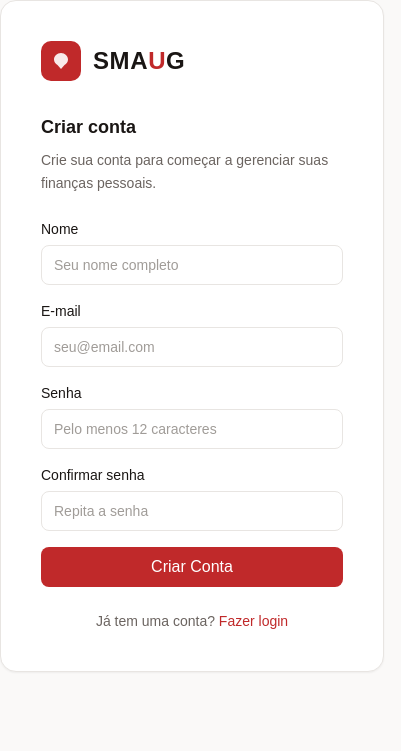
Test: página de cadastro › no 500 mostra a mensagem genérica e mantém o formulário
Type "Maria Souza" into the field labelled "Nome" at point(192, 264), box [41,244,343,284]
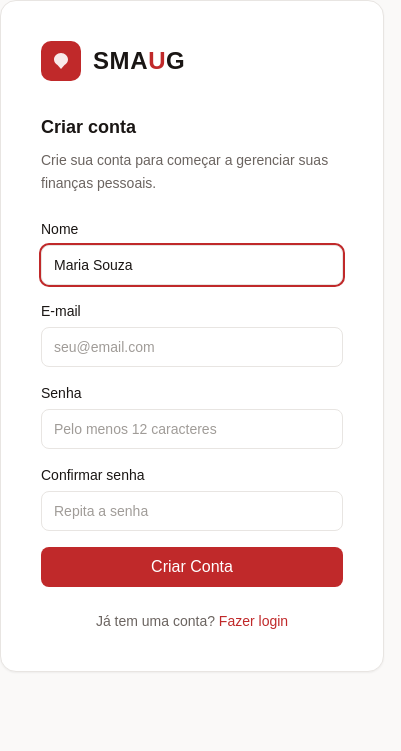
Type "maria@example.com" into the field labelled "E-mail" at point(192, 346), box [41,326,343,366]
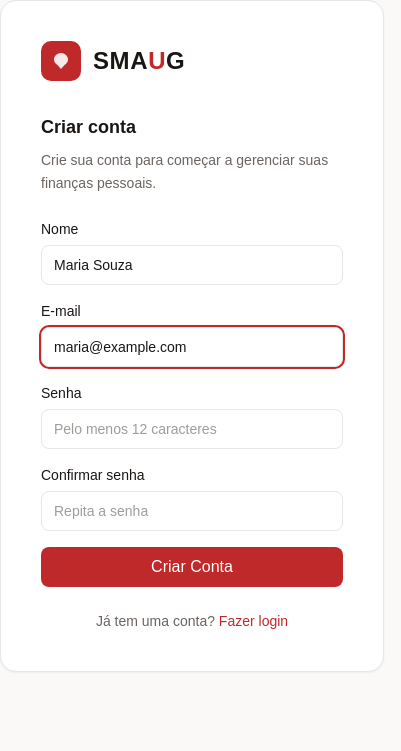
Type "senha muito segura" into the password field labelled "Senha" at point(192, 428), box [41,408,343,448]
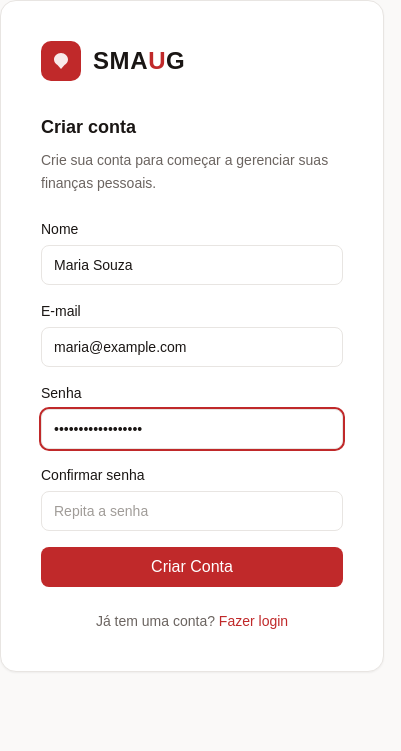
Type "senha muito segura" into the password field labelled "Confirmar senha" at point(192, 510), box [41,490,343,530]
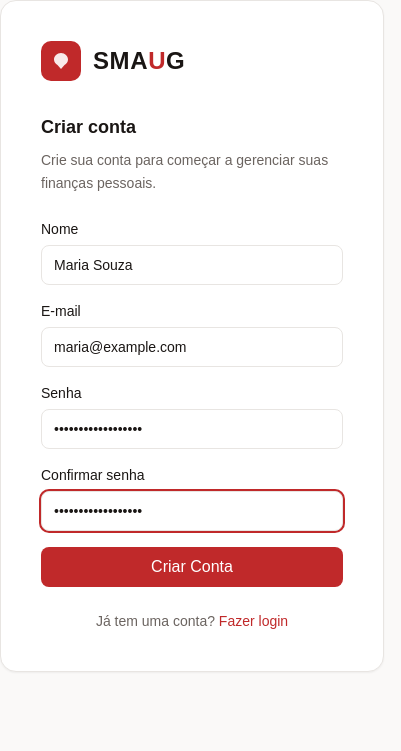
Click the button "Criar Conta" at point(192, 566), box [41,546,343,586]
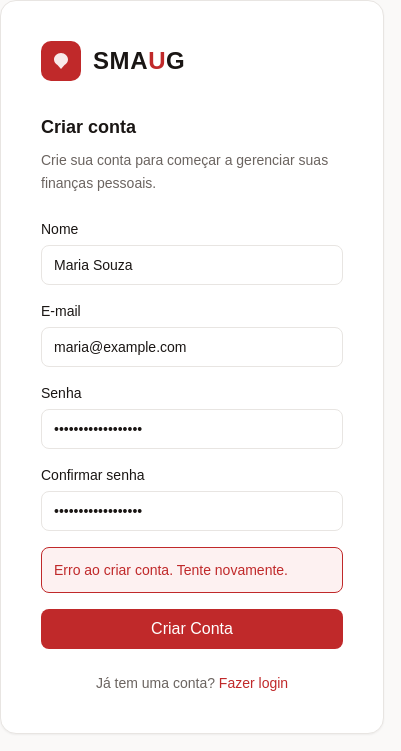
Expected: the button "Criar Conta" is enabled, [41,608,343,648]
Now the text "Erro ao criar conta. Tente novamente." is shown, box [54,562,288,578]
